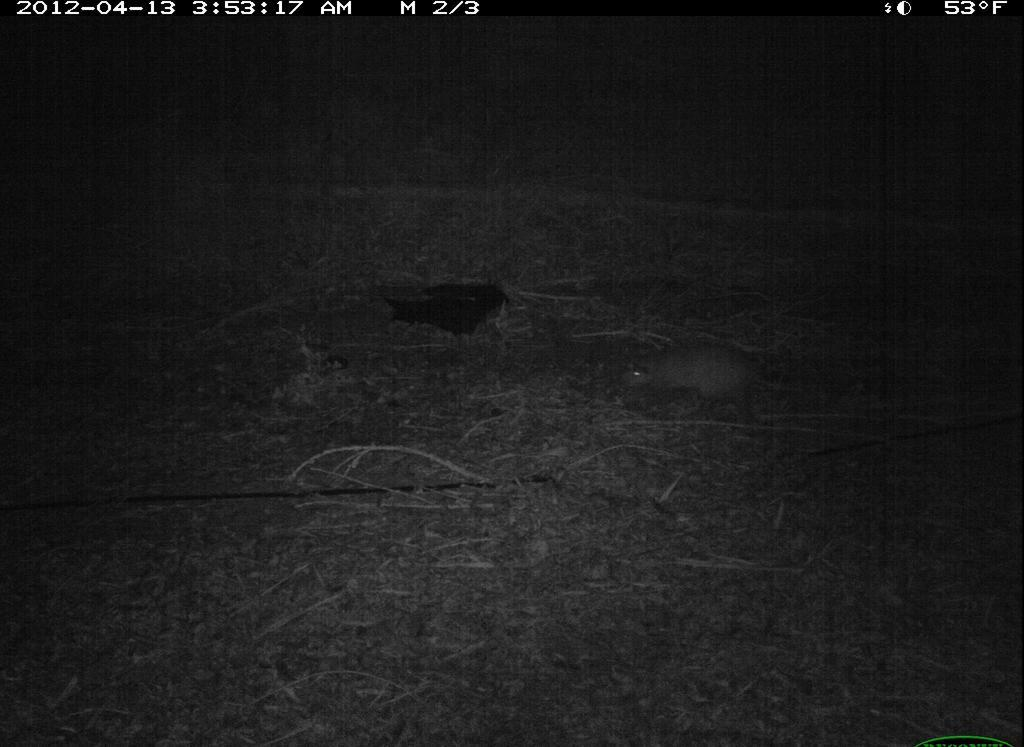opossum: (612, 328, 844, 419)
